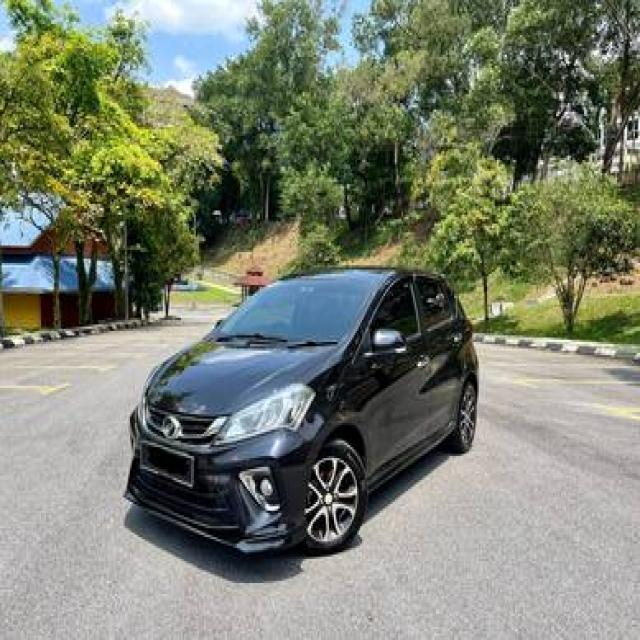PeroduaMyvi: (122, 261, 480, 559)
